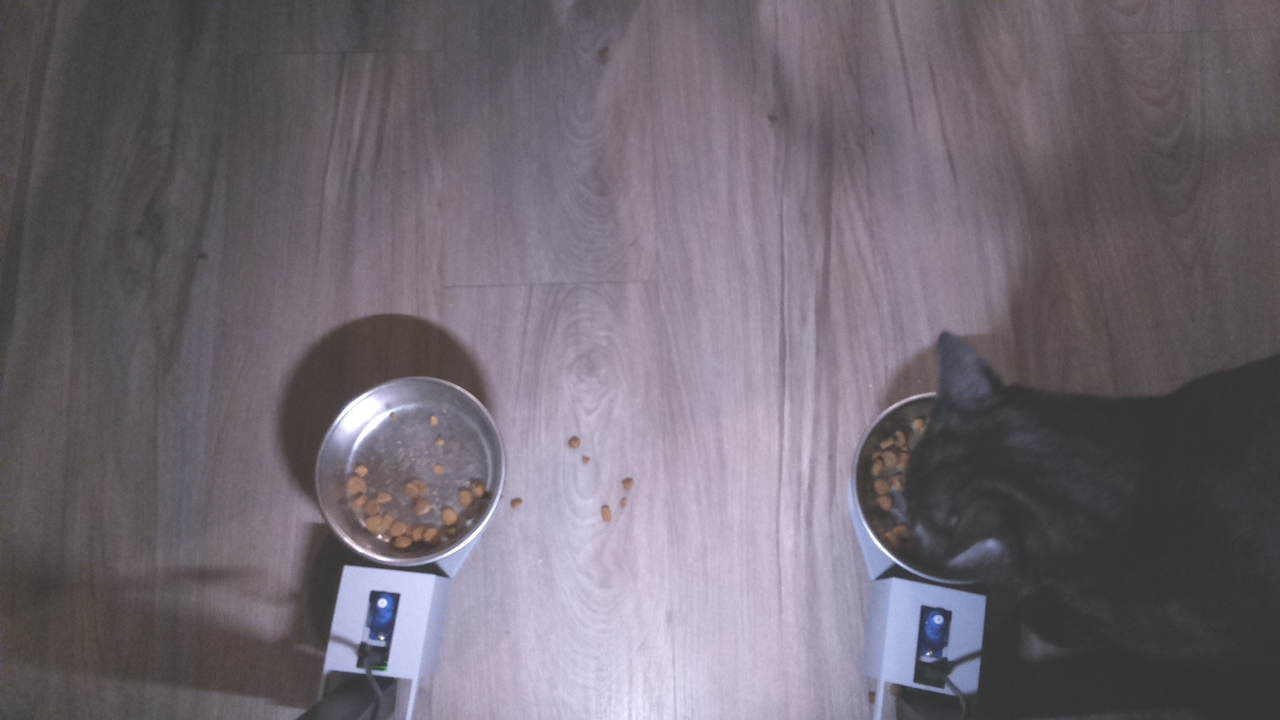open_bowl: (311, 371, 509, 569)
saki_eating: (844, 327, 1098, 594)
